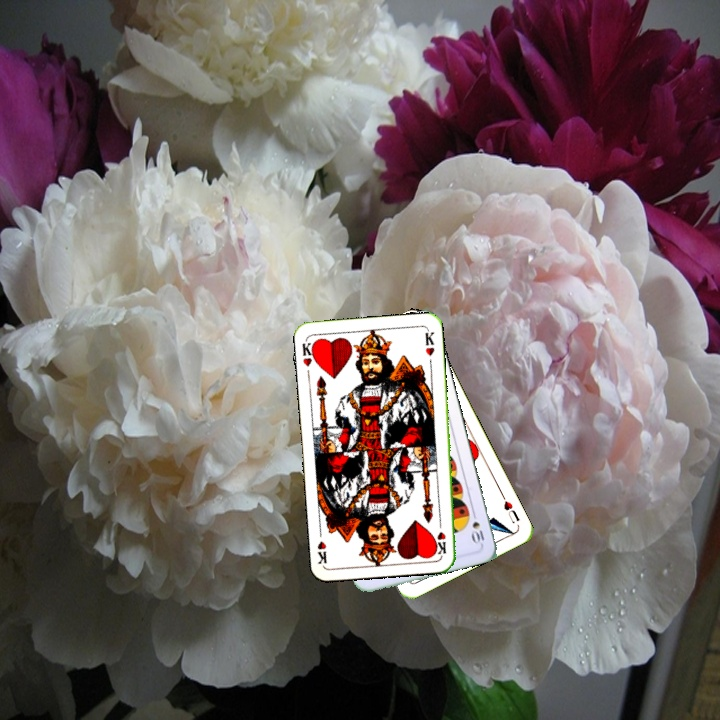HK: (298, 337, 319, 369), (433, 516, 449, 557)
HU: (497, 490, 522, 526)
S10: (468, 507, 488, 547)
